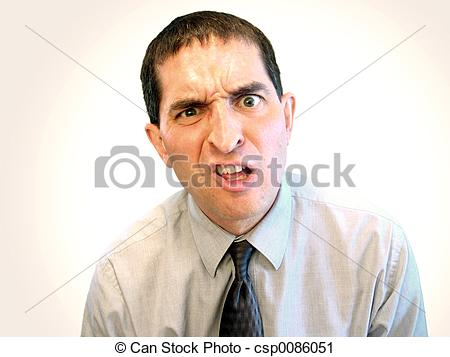confused: (143, 49, 300, 213)
